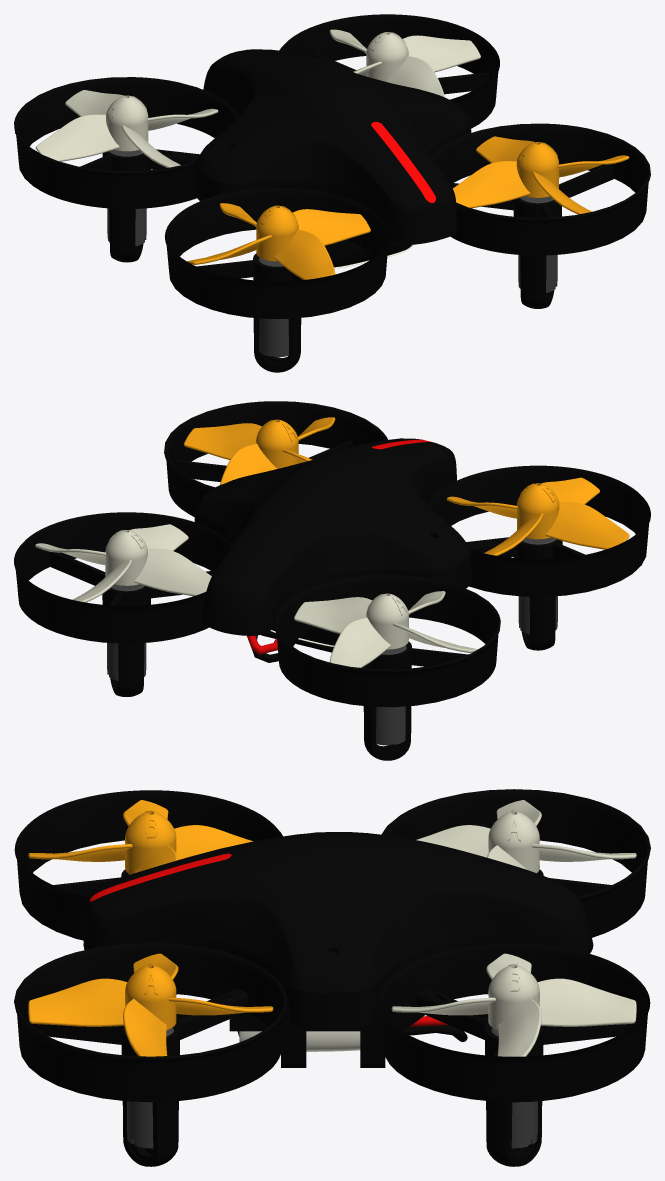
The model's file is codrone_mini2.FBX.
3 views of the same model, one above another, from view 1: azimuth 30°, elevation 25°; view 2: azimuth 150°, elevation 25°; view 3: azimuth 270°, elevation 25° (orthographic). The views are drawn at different scales.
Parts seen in each view (by area): view 1: XTS-65_01, XTS-65_21, XTS-65_04, XTS-65_08, XTS-65_06, XTS-65_02, XTS-65_05, XTS-65_20, Battery Body C_002, XTS-65_07, XTS-65_09; view 2: XTS-65_01, XTS-65_21, XTS-65_08, XTS-65_04, XTS-65_02, XTS-65_06, XTS-65_09, XTS-65_03, XTS-65_05; view 3: XTS-65_01, XTS-65_21, XTS-65_02, XTS-65_06, XTS-65_04, XTS-65_08, Battery Body A_002, XTS-65_07, XTS-65_03, XTS-65_20, Line001.
Boxes of the visible parts, <box> form: XTS-65_01: <box>14,14,650,372</box>; XTS-65_21: <box>194,49,471,244</box>; XTS-65_04: <box>187,203,370,279</box>; XTS-65_08: <box>35,90,218,167</box>; XTS-65_06: <box>453,136,629,214</box>; XTS-65_02: <box>329,29,480,97</box>; XTS-65_05: <box>258,257,288,357</box>; XTS-65_20: <box>371,122,435,202</box>; Battery Body C_002: <box>328,239,411,267</box>; XTS-65_07: <box>518,196,557,292</box>; XTS-65_09: <box>107,149,146,246</box>; XTS-65_01: <box>14,401,650,760</box>; XTS-65_21: <box>194,438,471,635</box>; XTS-65_08: <box>294,591,477,667</box>; XTS-65_04: <box>446,477,629,555</box>; XTS-65_02: <box>35,524,211,602</box>; XTS-65_06: <box>184,417,335,484</box>; XTS-65_09: <box>376,645,406,745</box>; XTS-65_03: <box>107,584,146,680</box>; XTS-65_05: <box>518,537,557,634</box>; XTS-65_01: <box>14,789,650,1166</box>; XTS-65_21: <box>83,832,593,1028</box>; XTS-65_02: <box>391,953,636,1056</box>; XTS-65_06: <box>28,953,273,1056</box>; XTS-65_04: <box>28,800,252,874</box>; XTS-65_08: <box>416,800,636,873</box>; Battery Body A_002: <box>239,1031,360,1051</box>; XTS-65_07: <box>127,1027,173,1148</box>; XTS-65_03: <box>490,1027,537,1148</box>; XTS-65_20: <box>89,853,231,901</box>; Line001: <box>403,1025,467,1041</box>.
Bounding box in the file's own units: 51.11 × 21.63 × 51.11.
